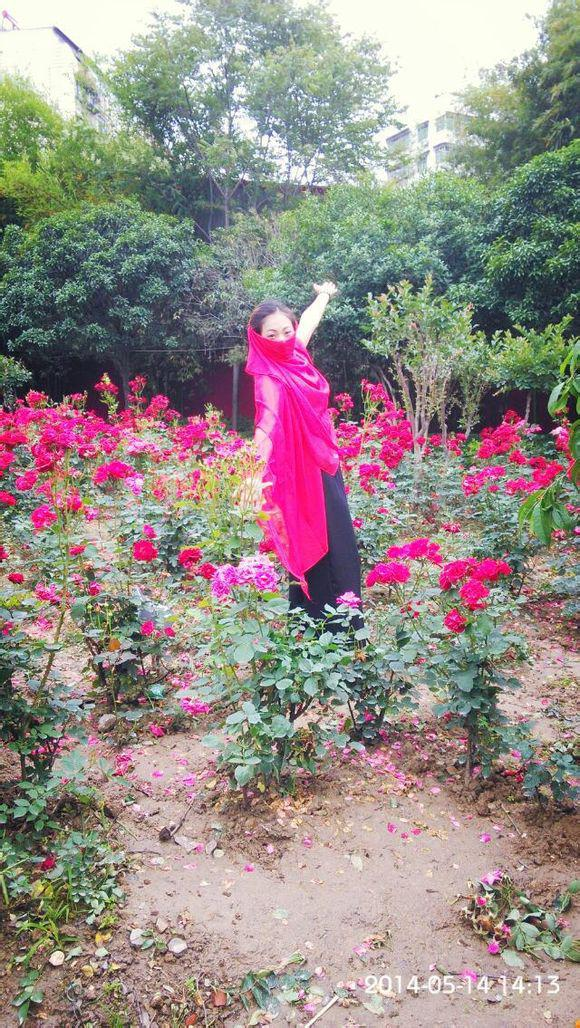OK: (257, 312, 301, 360)
